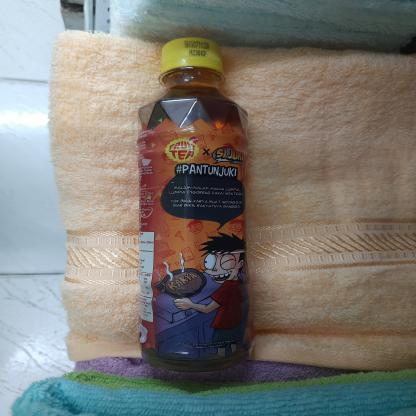bottle: (133, 36, 255, 378)
